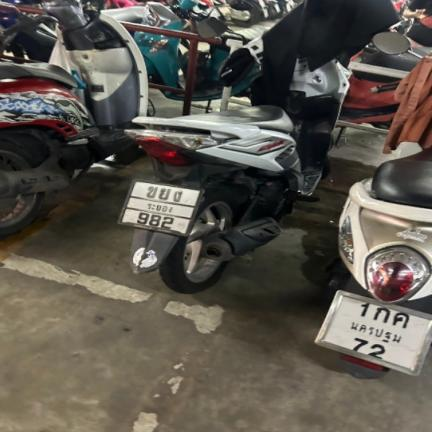1: (353, 301, 372, 319)
2: (364, 342, 392, 361), (160, 215, 177, 230)
7: (347, 335, 371, 353)
8: (148, 214, 163, 227)
9: (134, 211, 150, 225)
A01: (370, 305, 394, 325)
A02: (143, 185, 159, 199)
A04: (390, 311, 413, 331)
A07: (170, 189, 187, 203)
A34: (156, 187, 172, 201)
NPT: (346, 320, 406, 347)
RYG: (143, 202, 176, 215)
